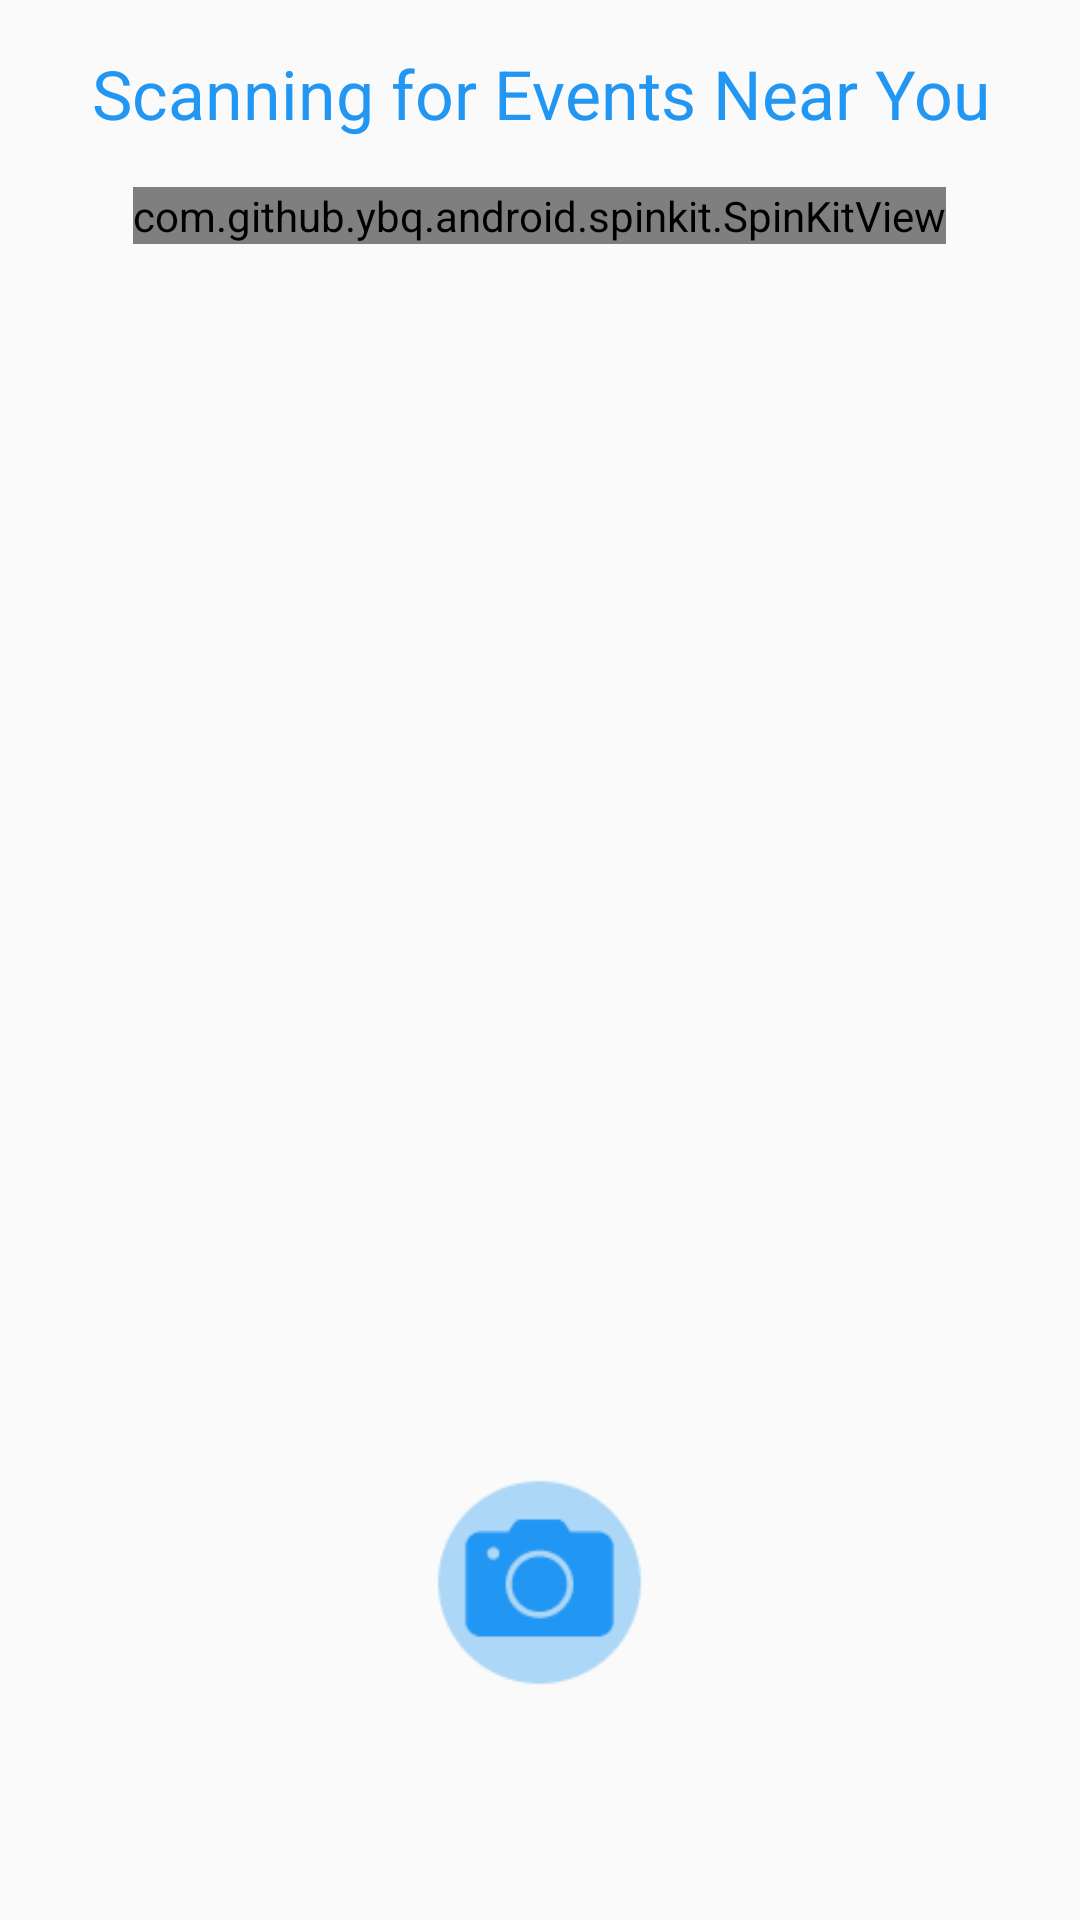

Named icons in this screenshot (1080 × 1920) and their centers, (x=x, y=y):
camera: (x=539, y=1582)
